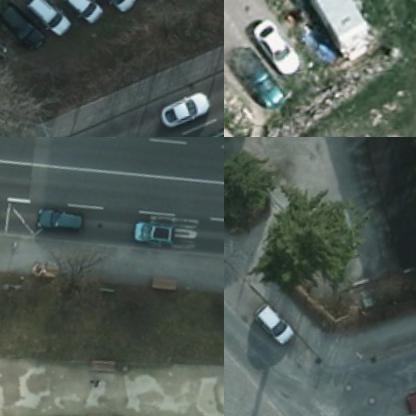camping car: (298, 0, 374, 64)
car: (230, 42, 288, 118), (244, 5, 296, 80), (148, 87, 209, 129), (0, 0, 44, 54), (250, 297, 294, 347), (31, 200, 84, 240), (21, 0, 68, 41), (128, 214, 176, 250), (58, 0, 101, 25), (82, 0, 134, 17), (177, 124, 223, 136), (399, 383, 415, 414)
